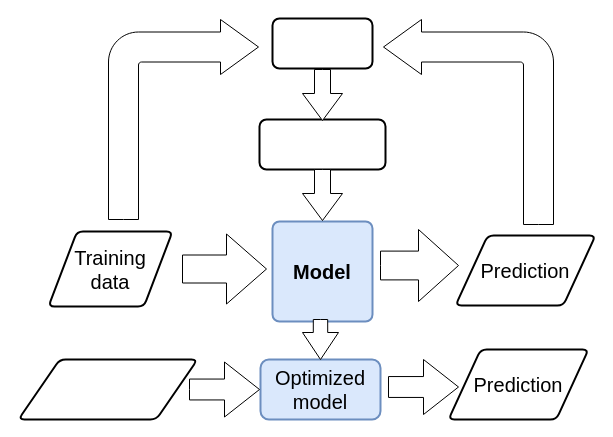
This 613x437 diagram has some shape labels left out. The centre of each missing label's shape, as x and y in pixels:
"Loss function" belongs at [322,43].
"Optimization method" belongs at [322,144].
"Testing data" belongs at [107,389].
